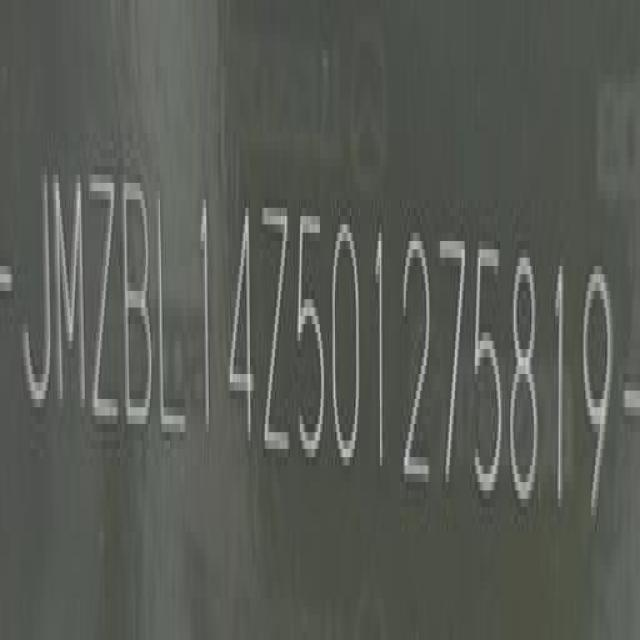0: (332, 191, 363, 483)
1: (197, 166, 216, 446), (551, 243, 567, 530), (371, 210, 386, 492)
2: (398, 222, 432, 498)
4: (222, 194, 256, 459)
5: (294, 197, 329, 471), (473, 234, 503, 492)
7: (438, 218, 468, 492)
8: (510, 243, 539, 502)
9: (580, 258, 612, 545)
B: (118, 160, 154, 428)
J: (26, 154, 54, 419)
L: (152, 154, 190, 452)
M: (54, 160, 90, 425)
Z: (260, 172, 292, 474), (89, 154, 121, 434)
